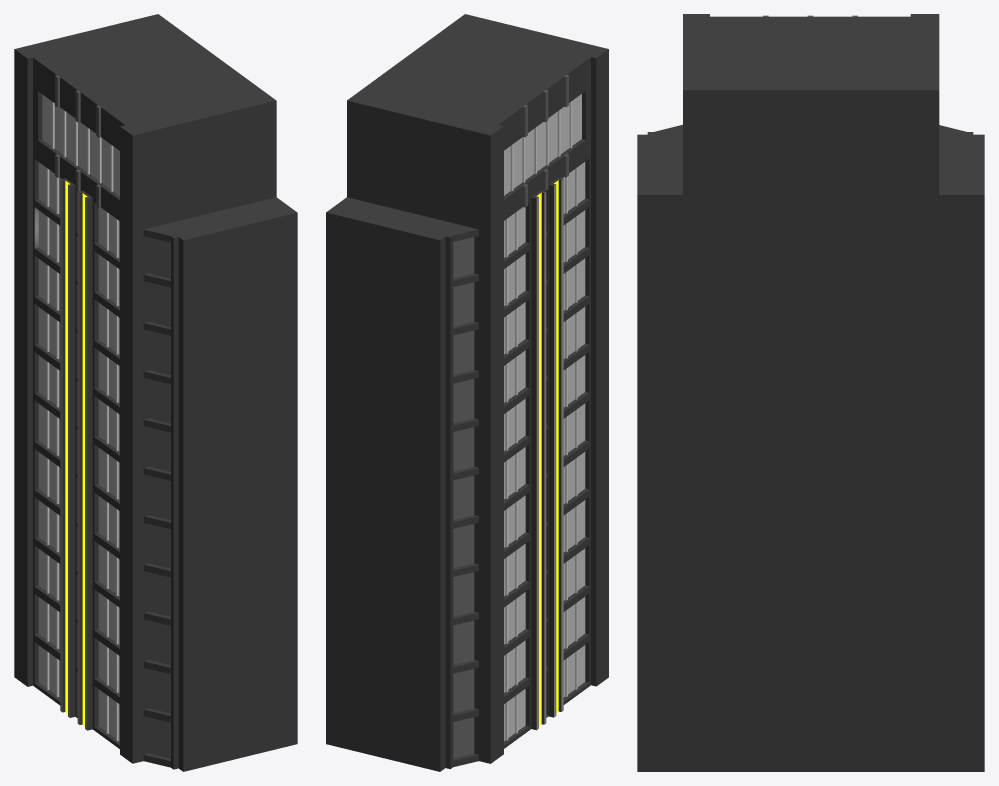
File: Building_04_Fake Interior.FBX
The picture shows the model from 3 angles, left to right: view 1: azimuth 30°, elevation 25°; view 2: azimuth 150°, elevation 25°; view 3: azimuth 270°, elevation 25°; orthographic projection. The views are drawn at different scales.
Visible parts, largest first — view 1: Building_04_Fake Interior_LOD0; view 2: Building_04_Fake Interior_LOD0; view 3: Building_04_Fake Interior_LOD0.
Boxes of the visible parts, x1,y1,x2,y2 form: Building_04_Fake Interior_LOD0: (14, 14, 297, 771); Building_04_Fake Interior_LOD0: (326, 14, 608, 771); Building_04_Fake Interior_LOD0: (637, 14, 984, 771).
Size of what is drawn, in the model's own units: 421 by 1755 by 811.
